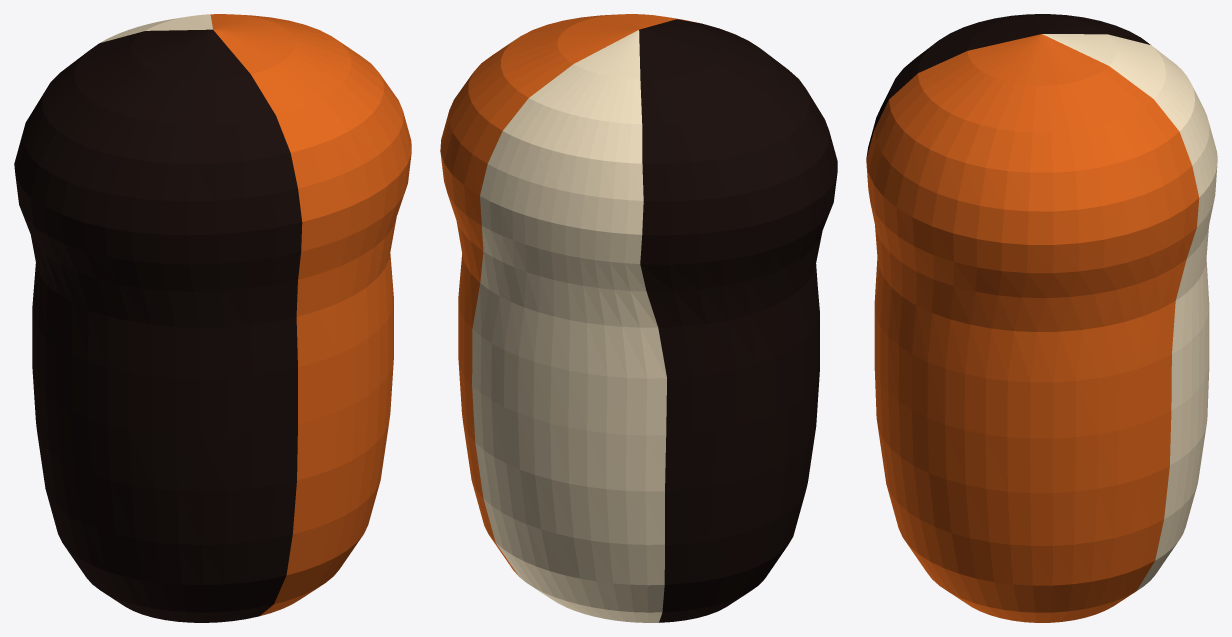
Rendered from cuy_combate_body.obj.
The picture shows the model from 3 angles, left to right: view 1: azimuth 30°, elevation 25°; view 2: azimuth 150°, elevation 25°; view 3: azimuth 270°, elevation 25°; orthographic projection.
Parts seen in each view (by area): view 1: DarkSurface, OrangeSurface, CreamSurface; view 2: CreamSurface, DarkSurface, OrangeSurface; view 3: OrangeSurface, CreamSurface, DarkSurface.
Part boxes in pixels (<box>): DarkSurface: <box>14,29,302,622</box>; OrangeSurface: <box>210,14,411,615</box>; CreamSurface: <box>100,14,212,42</box>; CreamSurface: <box>472,30,666,622</box>; DarkSurface: <box>639,19,837,622</box>; OrangeSurface: <box>440,14,698,575</box>; OrangeSurface: <box>866,34,1199,622</box>; CreamSurface: <box>1042,34,1217,590</box>; DarkSurface: <box>866,14,1150,158</box>.
Bounding box in the file's own units: 0.9782 × 1.5 × 0.85.
